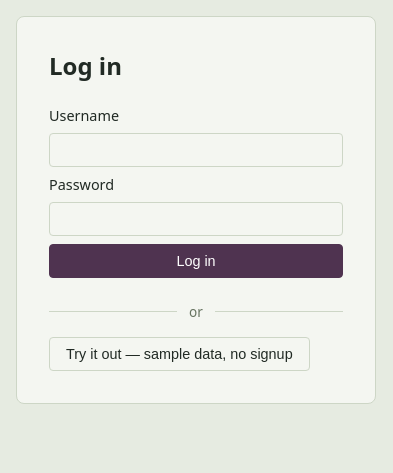
it: Login error branches › shows a rate-limit message (not "invalid") on a 429 response
Type "antonio" into the field labelled "Username" at (196, 150), box top-left (49, 133), bottom-right (343, 167)
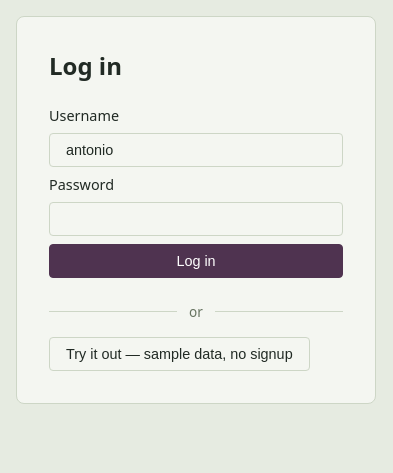
Type "secret" into the password field labelled "Password" at (196, 219), box top-left (49, 202), bottom-right (343, 236)
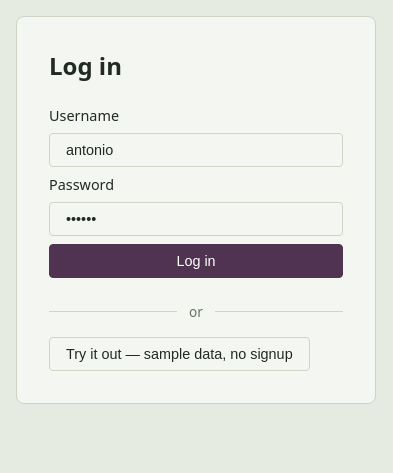
Click the button "Log in" at (196, 261), box top-left (49, 244), bottom-right (343, 278)
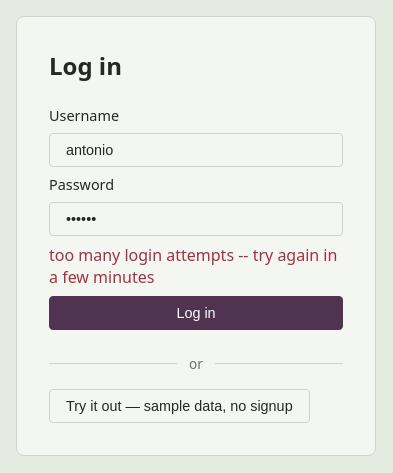
Expected: the message does not show "invalid", top-left (49, 244), bottom-right (343, 288)
Now the message shows "too many login attempts", box top-left (49, 244), bottom-right (337, 288)
